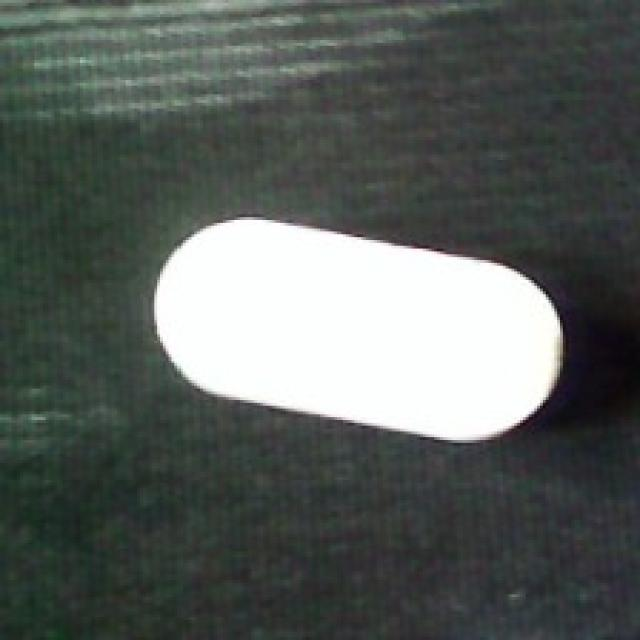no-defect: (148, 217, 568, 446)
